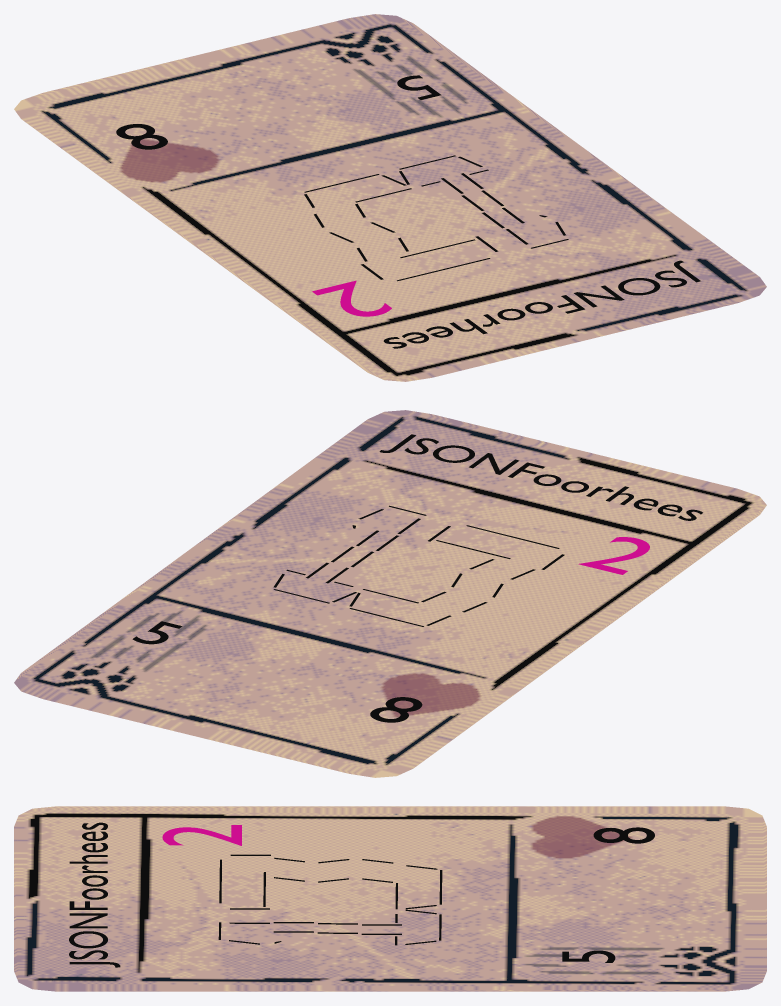
Rendered from JSONFoorhees.glb.
3 views of the same model, one above another, from view 1: azimuth 30°, elevation 25°; view 2: azimuth 150°, elevation 25°; view 3: azimuth 270°, elevation 25° (orthographic). The views are drawn at different scales.
Parts seen in each view (by area): view 1: JSONFoorhees; view 2: JSONFoorhees; view 3: JSONFoorhees.
Part boxes in pixels (<box>): JSONFoorhees: <box>14,14,766,381</box>; JSONFoorhees: <box>14,410,766,777</box>; JSONFoorhees: <box>14,806,766,991</box>.
Size of what is drawn, in the model's own units: 44.93 by 0.4028 by 77.22.
Materials: 5 (1 with a texture image).
